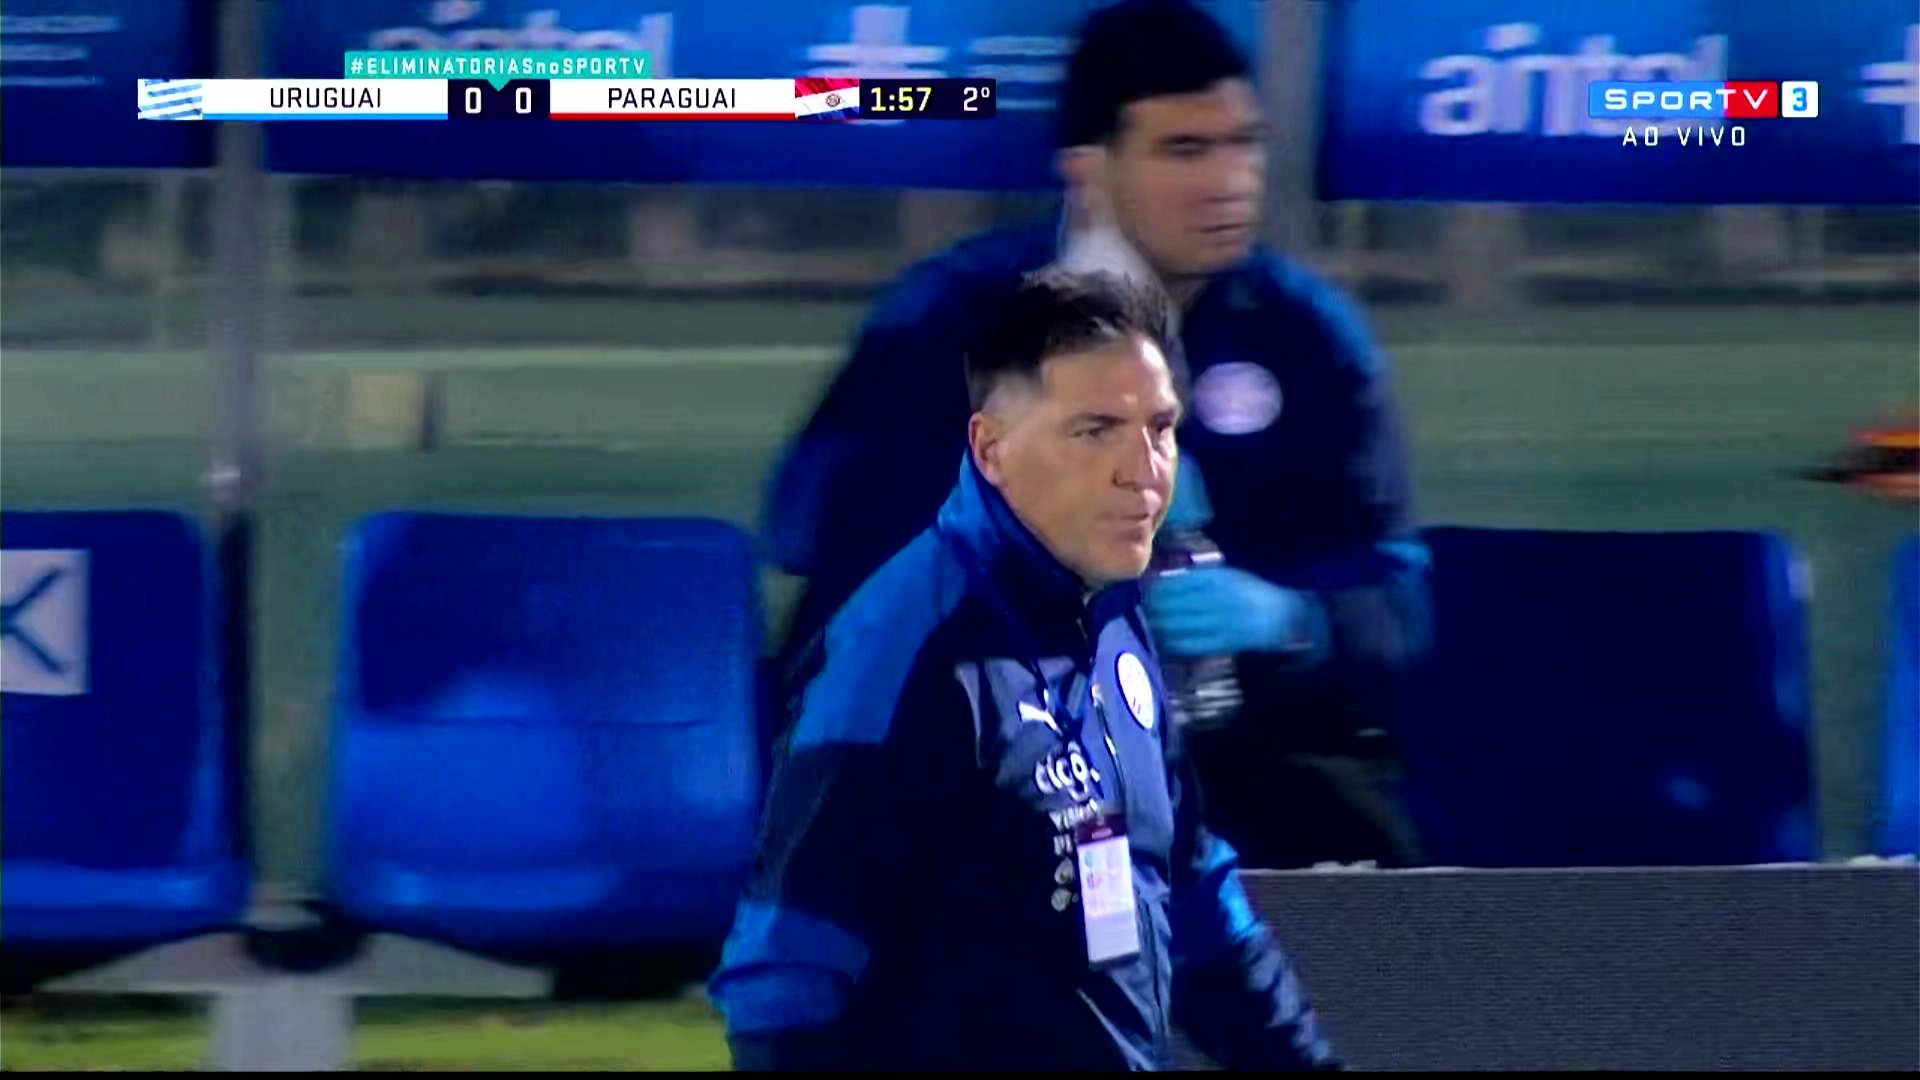SporTV3: (1588, 80, 1821, 119)
